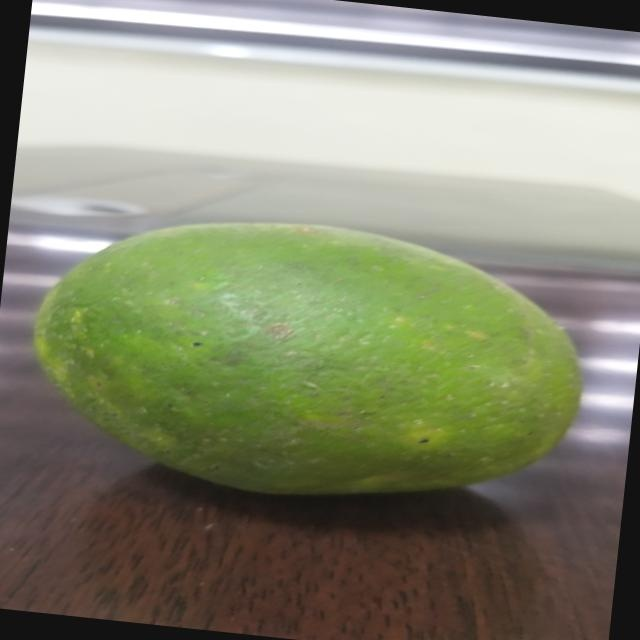agrume: (6, 165, 640, 526)
